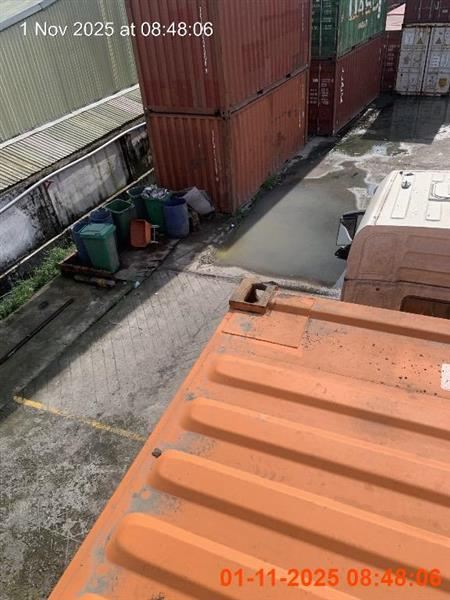broken: (46, 276, 448, 599)
